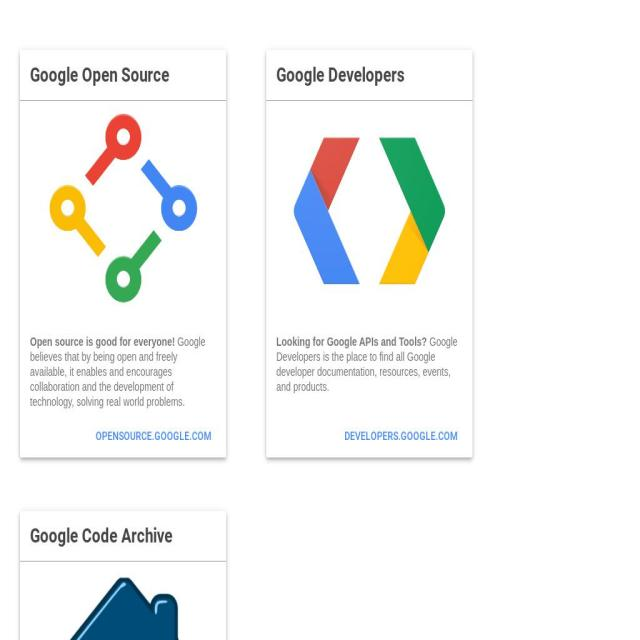button: (20, 50, 226, 415), (266, 50, 472, 415), (20, 511, 226, 640), (86, 421, 221, 452), (334, 421, 468, 452)
heading: (30, 524, 172, 548), (30, 63, 169, 87), (276, 63, 404, 87)
image: (41, 101, 206, 321), (287, 101, 452, 321), (40, 561, 205, 640)
link: (276, 335, 427, 349), (30, 335, 175, 349), (96, 429, 211, 443), (344, 429, 458, 443)
text: (30, 335, 206, 409), (276, 335, 458, 394)
